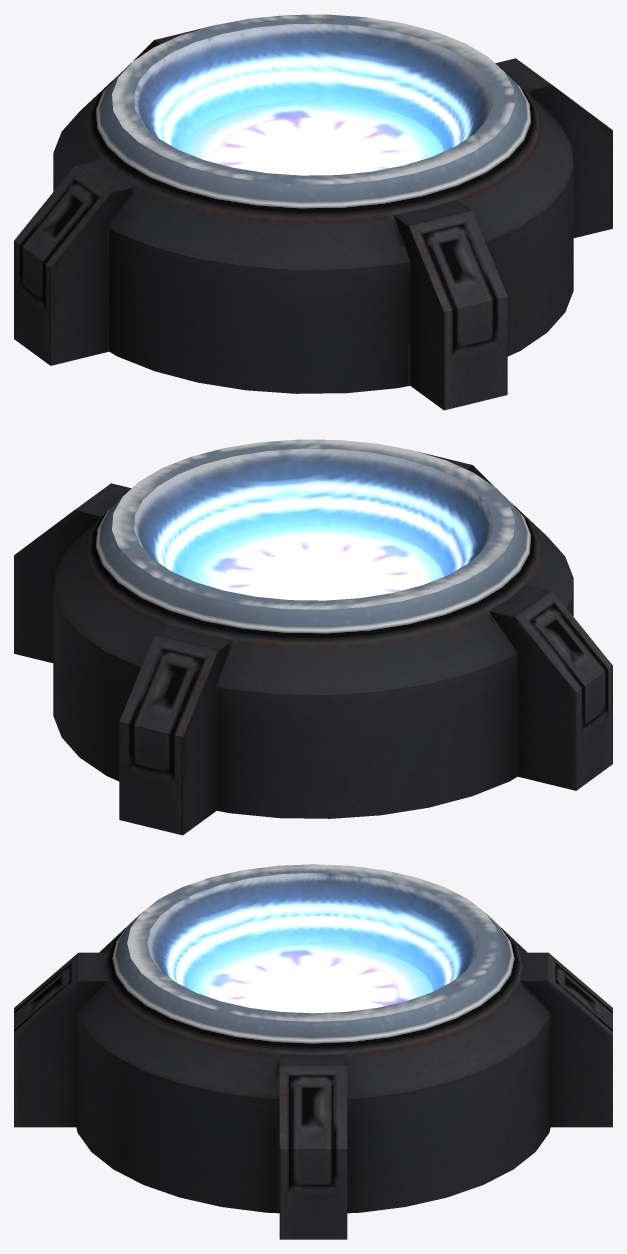
Rendered from ManeuveringThruster2.fbx.
3 renders of one model, top to bottom at view 1: azimuth 30°, elevation 25°; view 2: azimuth 150°, elevation 25°; view 3: azimuth 270°, elevation 25°, orthographic. The views are drawn at different scales.
Visible parts, largest first — view 1: ManeuveringThruster2; view 2: ManeuveringThruster2; view 3: ManeuveringThruster2.
Part boxes in pixels (x1,y1,x2,y2): ManeuveringThruster2: (14,14,612,410); ManeuveringThruster2: (14,439,612,835); ManeuveringThruster2: (14,864,612,1239).
Size of the model in its own units: 12.18 by 3.81 by 12.18.
